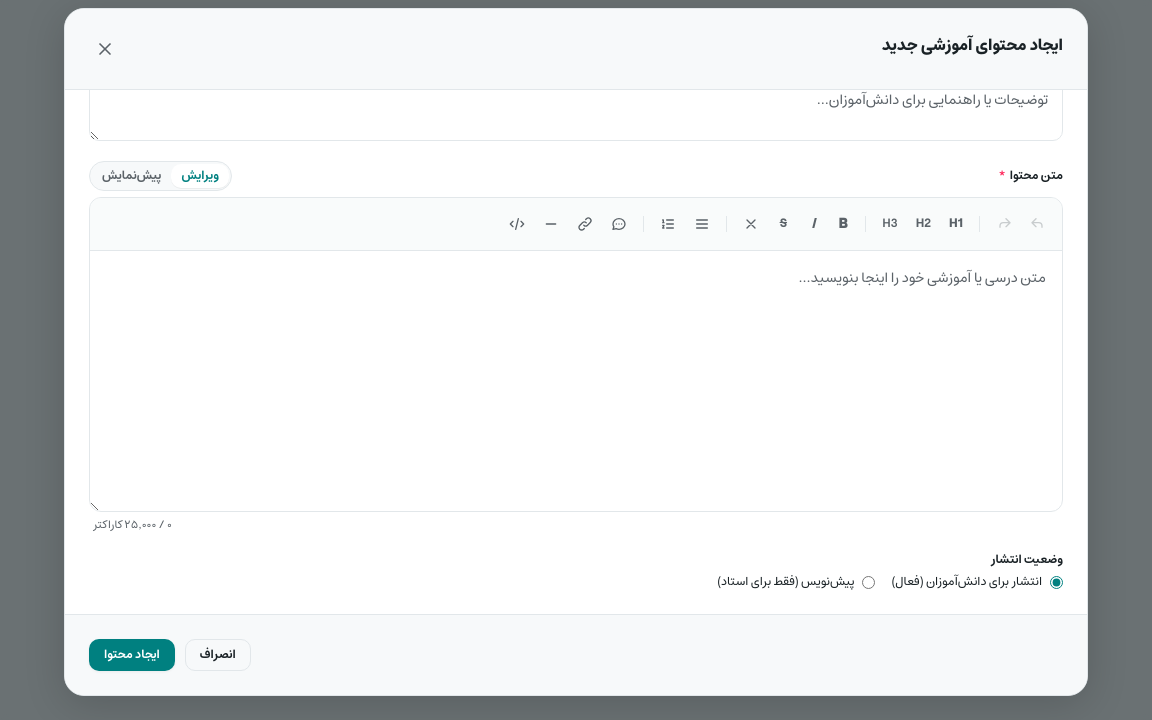
Scenario: Classroom Educational Content — Frontend Flow Tests › Teacher: CreateEditContentModal › enforces 25,000 character limit on textarea and updates counter
(page scrolled)
Type "متن کوتاه" into the text box with placeholder "متن درسی یا آموزشی خود را اینجا بنویسید...".
click(576, 381); type("متن کوتاه")  # box [90,251,1062,510]
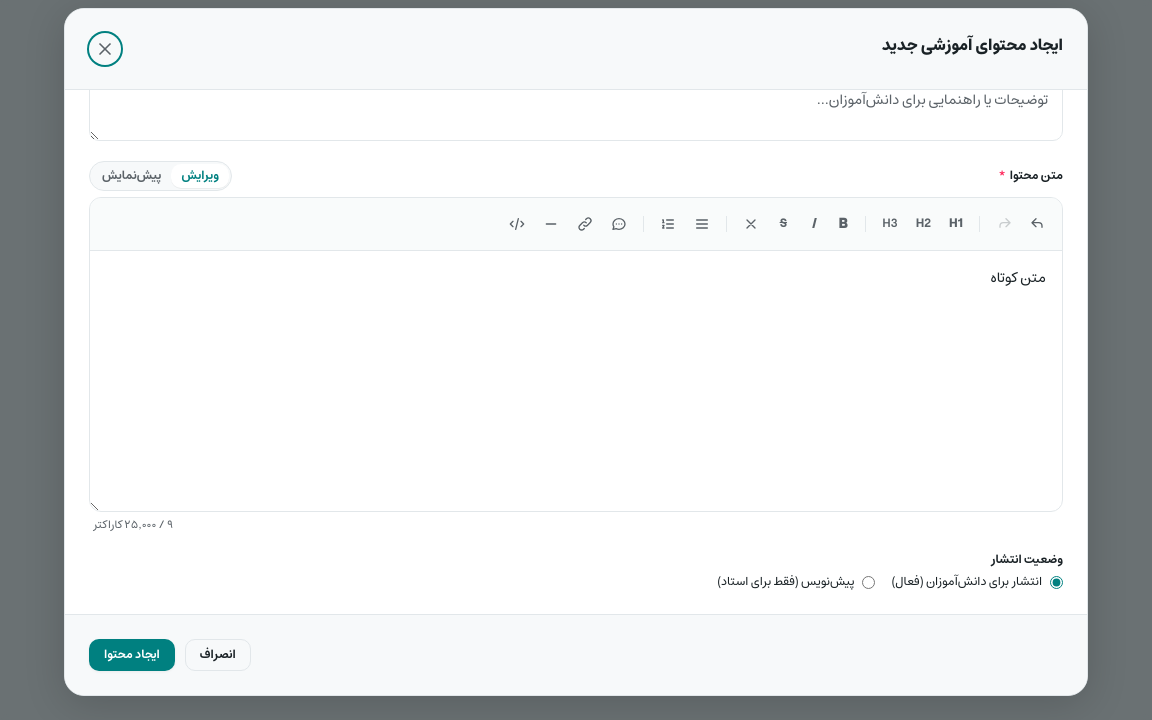
Expected: the text "۹ / ۲۵٬۰۰۰ کاراکتر" is shown, [93,518,173,532]
